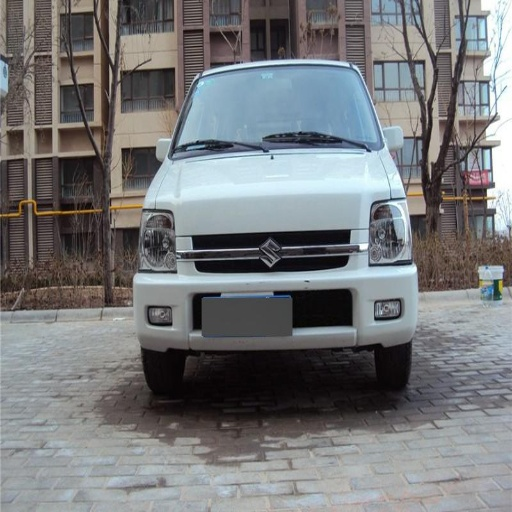front_bumper: (135, 227, 415, 351)
front_right_light: (139, 206, 177, 270)
hood: (158, 151, 390, 234)
